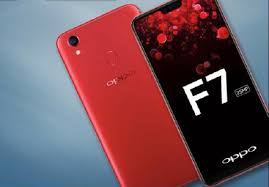oppo: (131, 1, 269, 187), (54, 1, 192, 187)
